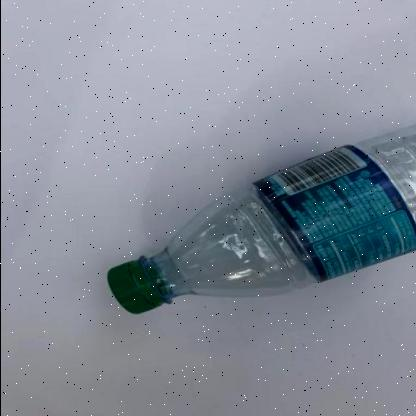Plastic Bottle: (107, 126, 416, 315)
